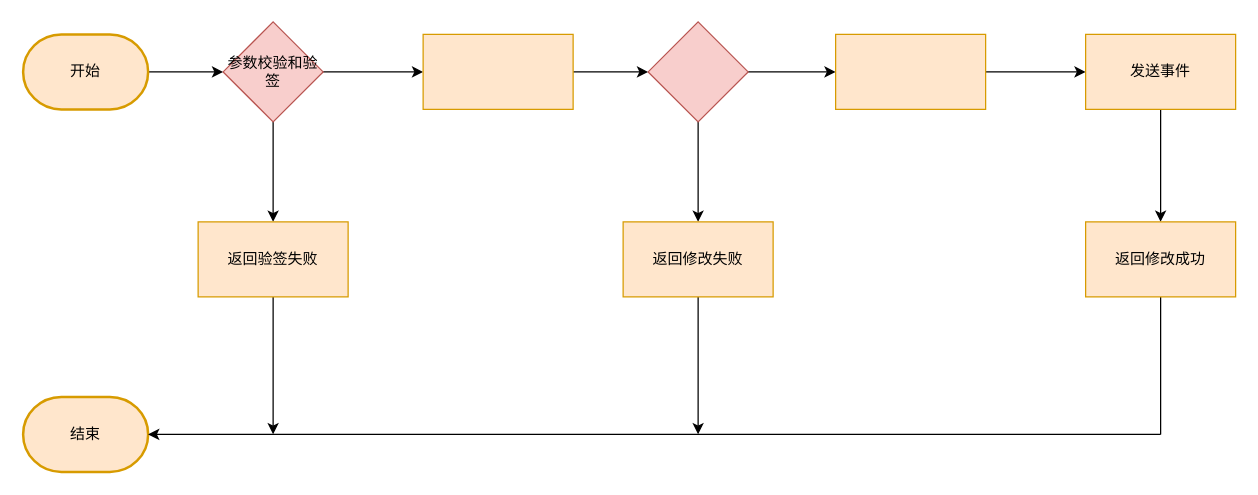
The diagram is 1258 pixels wide and 495 high, and some of its shapes have lost their labels. Each missing label, with the box of its shape:
业务订单和原始订单修改身份信息: (834, 33, 986, 109)
加锁 查询业务订单: (422, 33, 573, 109)
是否待领取: (647, 21, 748, 122)
